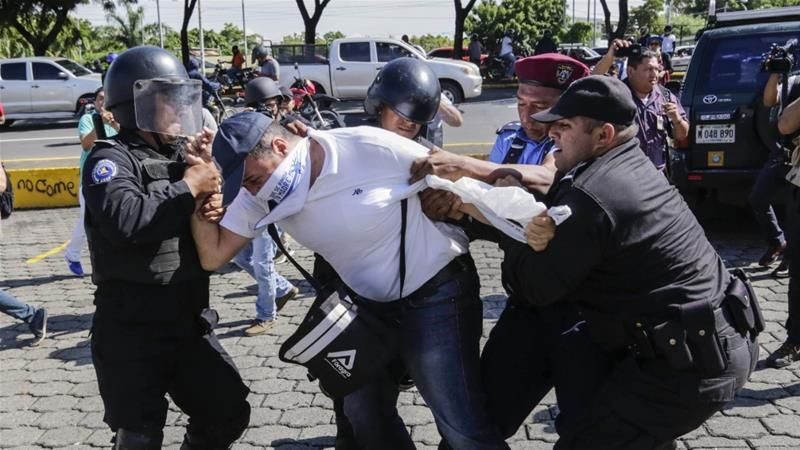uniform: (525, 157, 769, 422), (78, 139, 255, 427)
